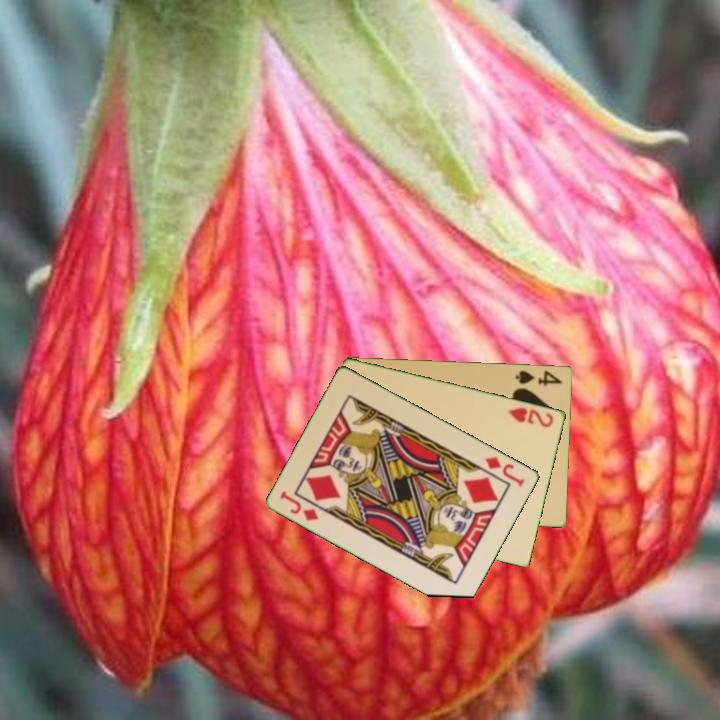2h: (505, 403, 557, 430)
4s: (512, 366, 565, 389)
Jd: (277, 487, 322, 524), (482, 453, 528, 489)
